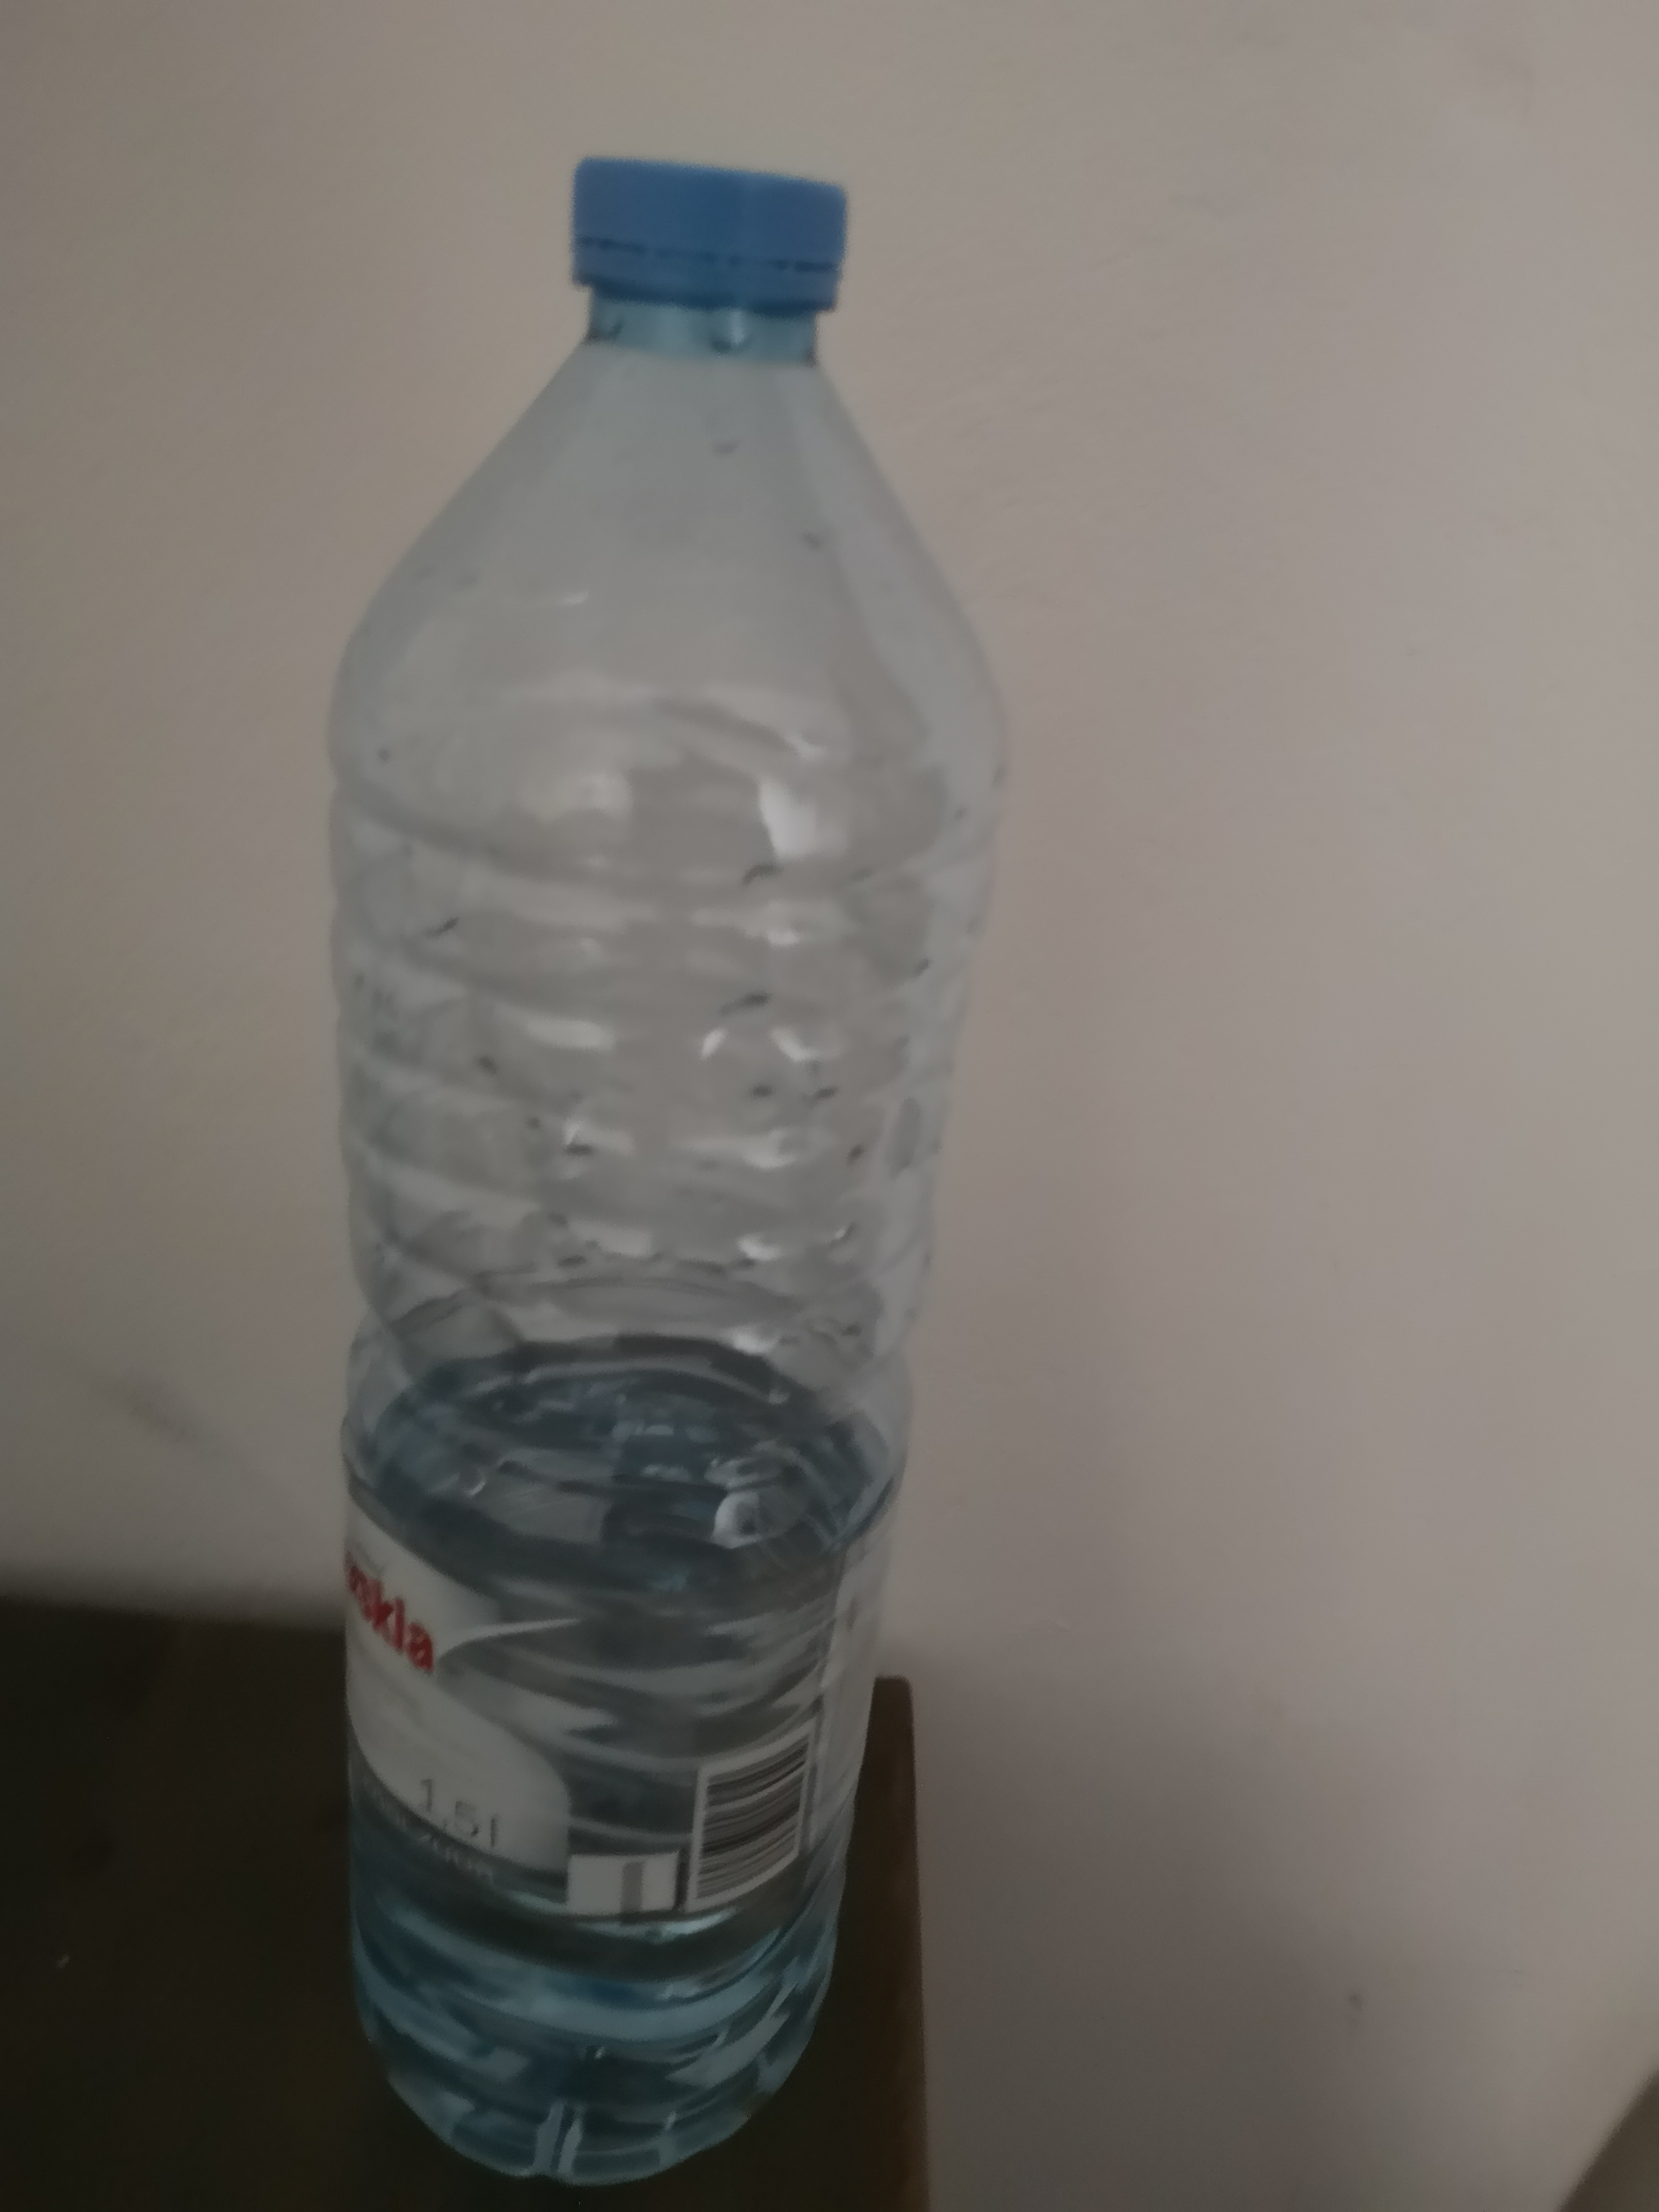plastic_bottle: (253, 89, 1066, 2195)
